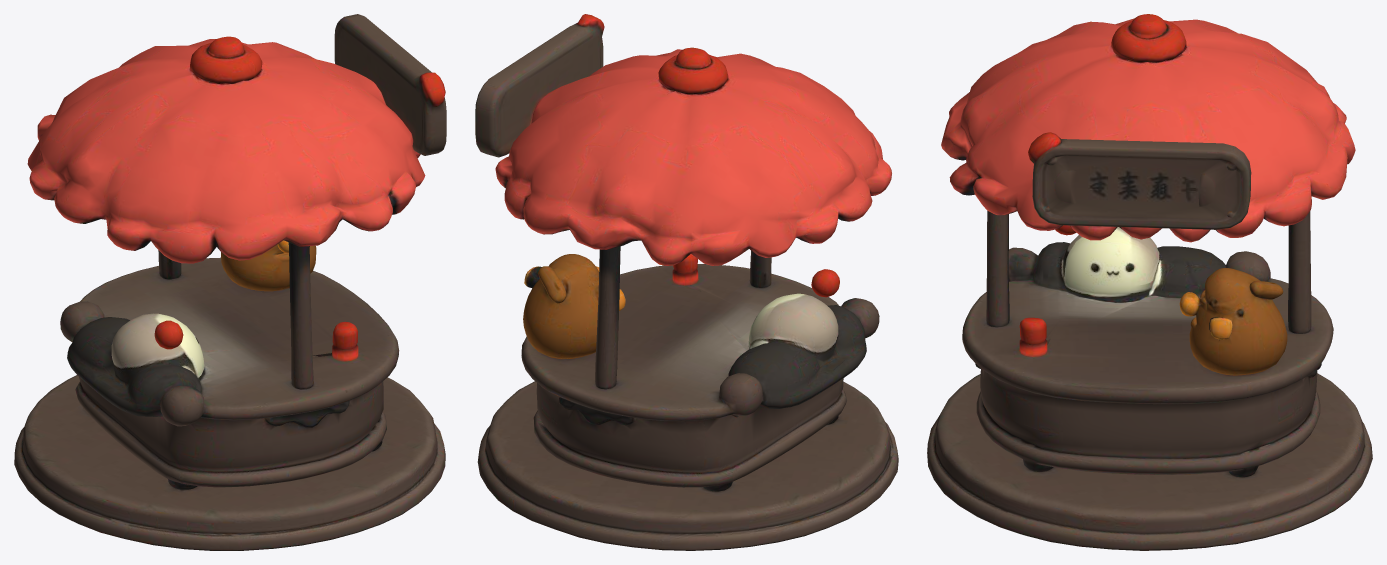
Rendered from env_nest_booth_shop_01.glb.
3 views of the same model, side by side, from view 1: azimuth 30°, elevation 25°; view 2: azimuth 150°, elevation 25°; view 3: azimuth 270°, elevation 25° (orthographic). The views are drawn at different scales.
Parts seen in each view (by area): view 1: env_nest_booth_shop_01; view 2: env_nest_booth_shop_01; view 3: env_nest_booth_shop_01.
Part boxes in pixels (x1,y1,x2,y2): env_nest_booth_shop_01: (14,14,446,550); env_nest_booth_shop_01: (475,14,898,550); env_nest_booth_shop_01: (927,14,1372,550).
Size of the model in its own units: 2.21 by 2.4 by 2.21.
Materials: 1 (1 with a texture image).
